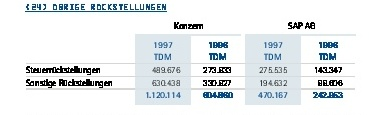table: (0, 0, 369, 115)
